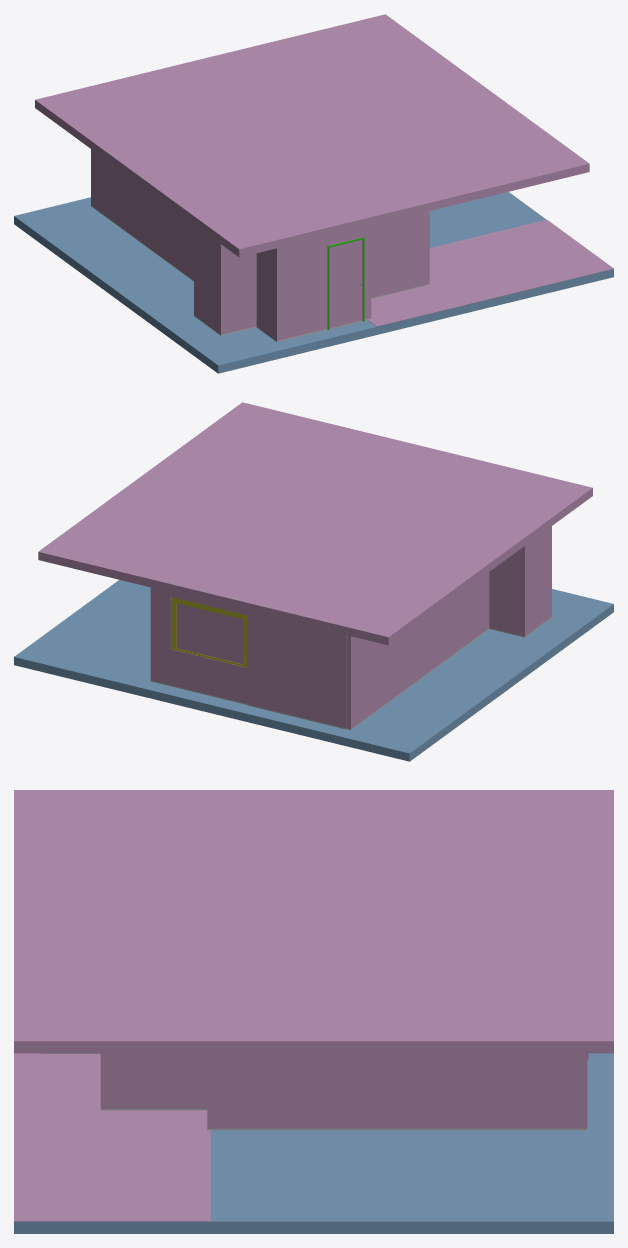
The model's file is FloorPlan311.fbx.
The picture shows the model from 3 angles, top to bottom: view 1: azimuth 30°, elevation 25°; view 2: azimuth 150°, elevation 25°; view 3: azimuth 270°, elevation 25°; orthographic projection. The views are drawn at different scales.
Visible parts, largest first — view 1: Ceiling.007, Floor.008, StandardWallSize.009, StandardDoorFrame1.007; view 2: Ceiling.007, StandardWallSize.009, Floor.008, StandardWindow1.002, WindowTreatment1.001; view 3: Ceiling.007, Floor.008, StandardWallSize.009.
Part boxes in pixels (left/top/right/bottom): Ceiling.007: left=35, top=14, right=589, bottom=257; Floor.008: left=14, top=192, right=613, bottom=373; StandardWallSize.009: left=91, top=149, right=429, bottom=342; StandardDoorFrame1.007: left=327, top=237, right=364, bottom=330; Ceiling.007: left=38, top=402, right=592, bottom=645; StandardWallSize.009: left=150, top=526, right=551, bottom=730; Floor.008: left=14, top=580, right=613, bottom=761; StandardWindow1.002: left=174, top=600, right=244, bottom=666; WindowTreatment1.001: left=171, top=597, right=247, bottom=667; Ceiling.007: left=14, top=790, right=613, bottom=1053; Floor.008: left=14, top=1053, right=613, bottom=1233; StandardWallSize.009: left=40, top=1053, right=588, bottom=1130.
Bounding box in the file's own units: 1007 × 290 × 900.
